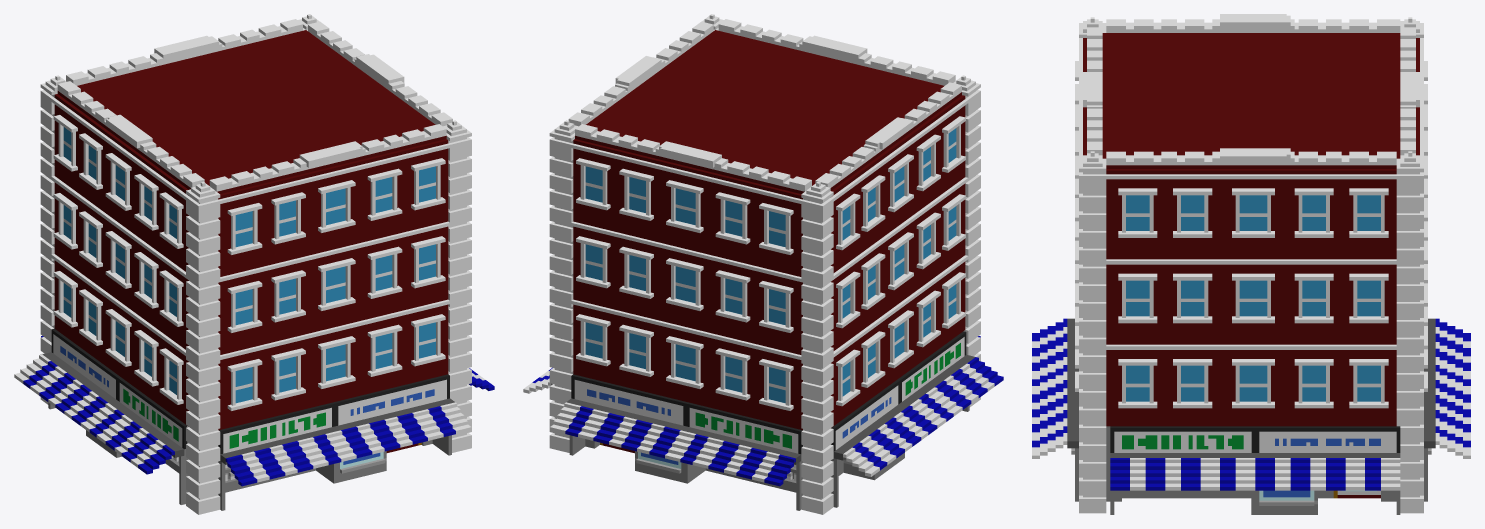
File: obj_store07_red_Blue.obj
3 renders of one model, left to right at view 1: azimuth 30°, elevation 25°; view 2: azimuth 150°, elevation 25°; view 3: azimuth 270°, elevation 25°, orthographic. The views are drawn at different scales.
Size of the model in its own units: 11.2 by 10 by 11.2.
1 material, 1 textured.
